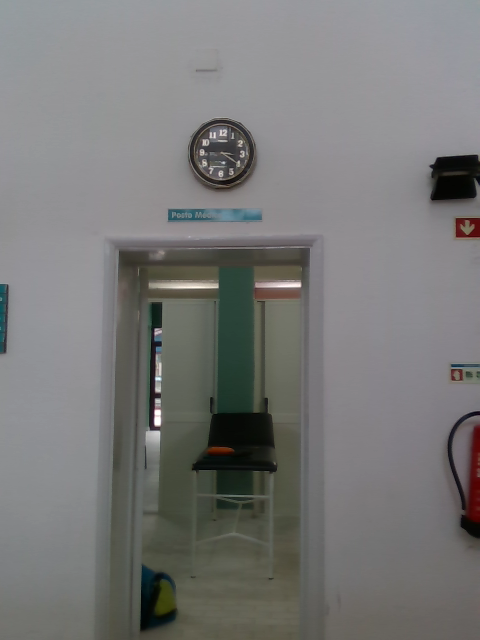open: (93, 241, 340, 639)
